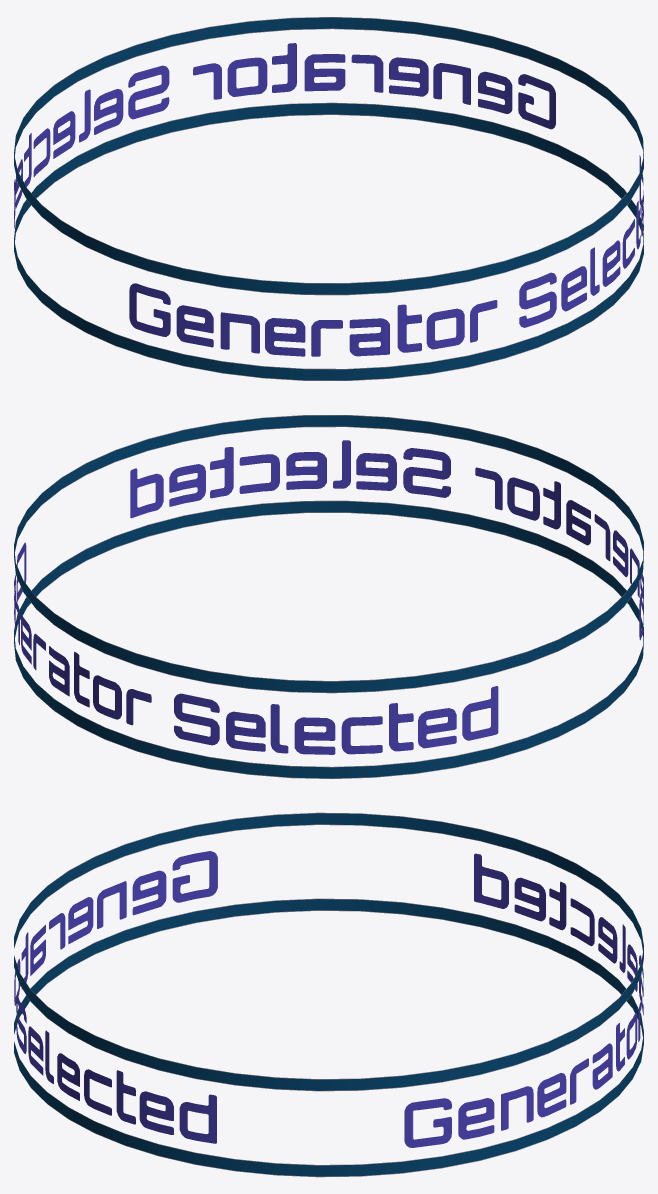
File: InteractionMesh.fbx
The picture shows the model from 3 angles, top to bottom: view 1: azimuth 30°, elevation 25°; view 2: azimuth 150°, elevation 25°; view 3: azimuth 270°, elevation 25°; orthographic projection.
Parts seen in each view (by area): view 1: Cylinder; view 2: Cylinder; view 3: Cylinder.
Part boxes in pixels (left/top/right/bottom): Cylinder: left=14, top=17, right=643, bottom=380; Cylinder: left=14, top=415, right=643, bottom=778; Cylinder: left=14, top=812, right=643, bottom=1177.
Bounding box in the file's own units: 510 × 91.95 × 509.
